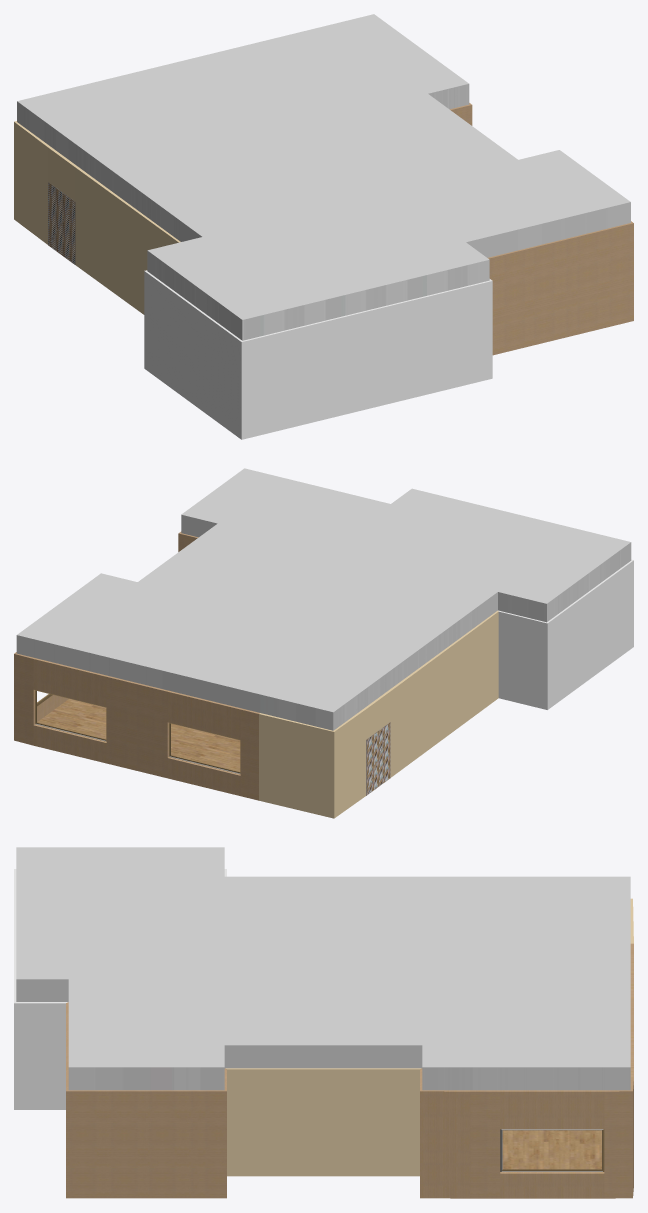
File: Walls.FBX
3 renders of one model, top to bottom at view 1: azimuth 30°, elevation 25°; view 2: azimuth 150°, elevation 25°; view 3: azimuth 270°, elevation 25°, orthographic. The views are drawn at different scales.
Visible parts, largest first — view 1: Ceilling, all; view 2: Ceilling, all; view 3: Ceilling, all.
Boxes of the visible parts, x1,y1,x2,y2 form: Ceilling: (17,14,630,340); all: (14,103,633,439); Ceilling: (16,468,631,730); all: (14,531,633,818); Ceilling: (16,847,630,1090); all: (14,869,633,1198).
Bounding box in the file's own units: 1518 × 1786 × 412.
3 materials, 2 textured.
